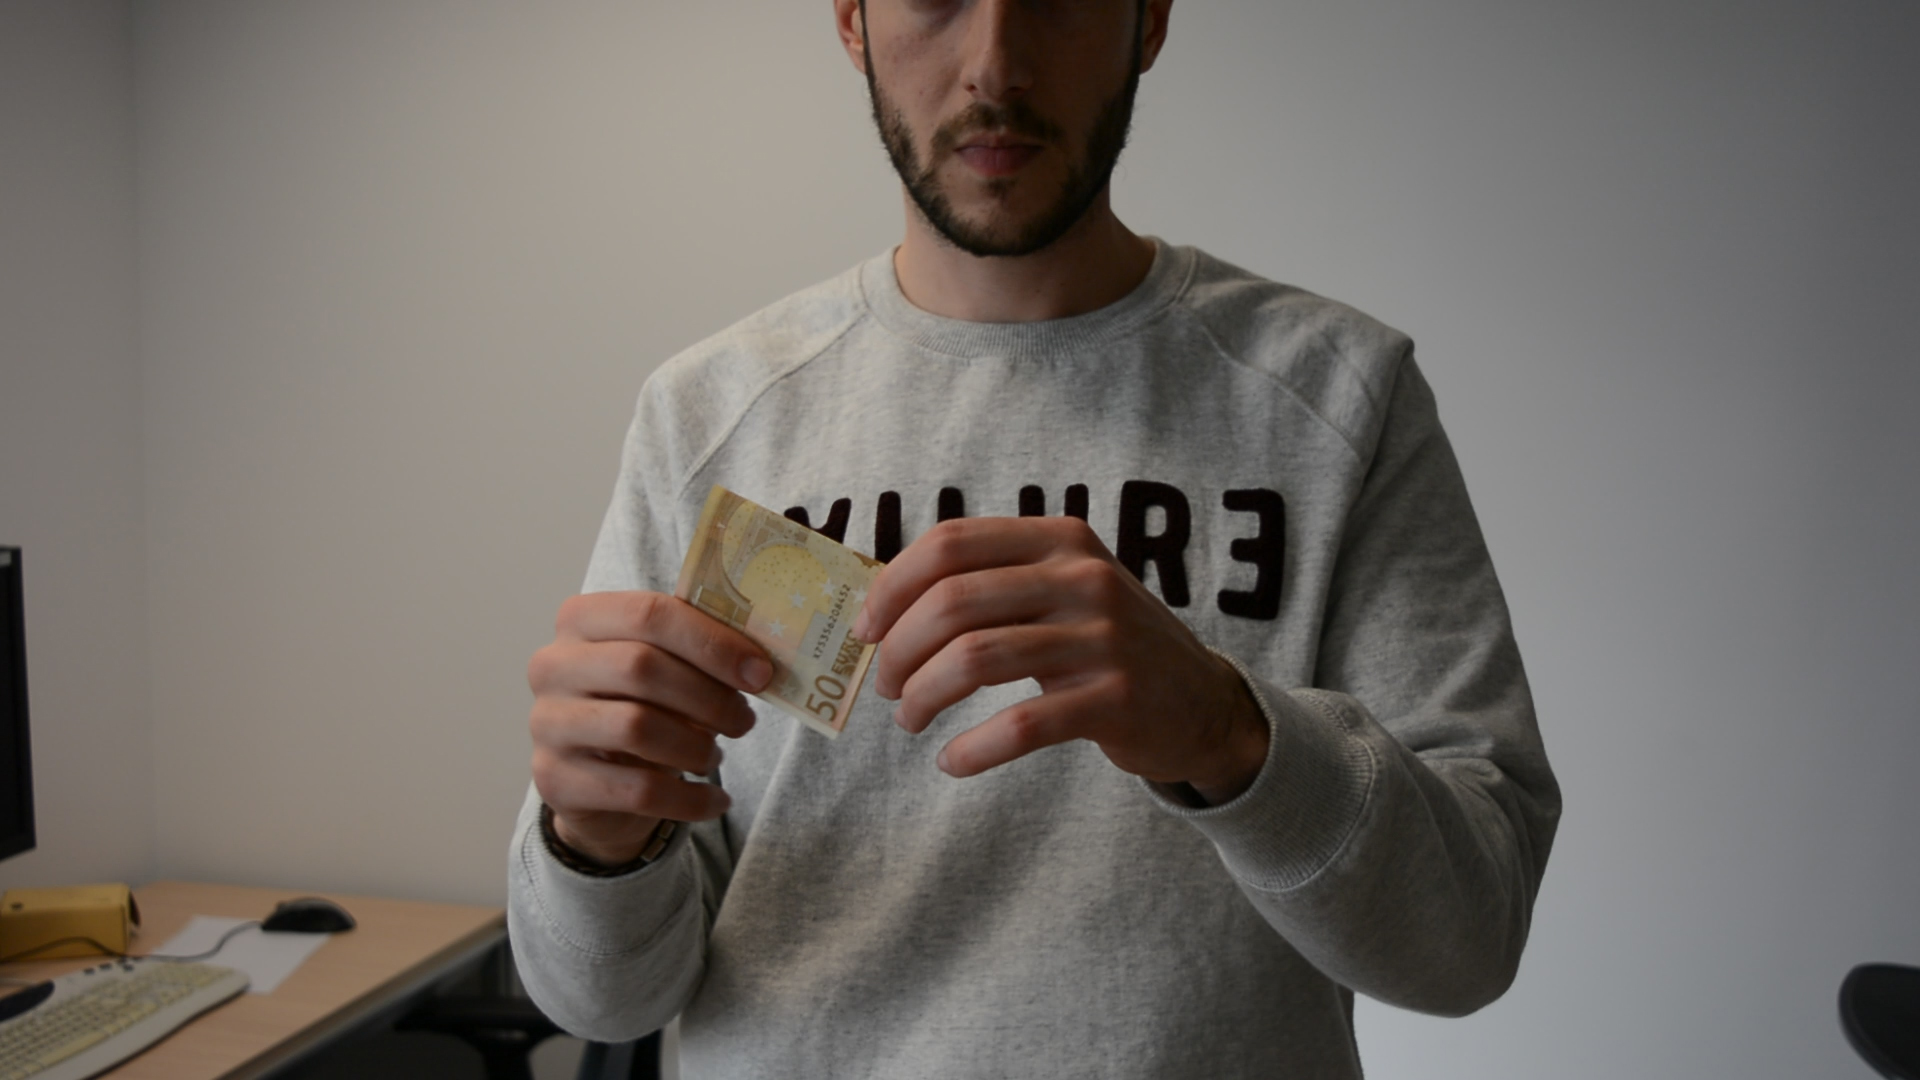billete: (673, 481, 891, 744)
